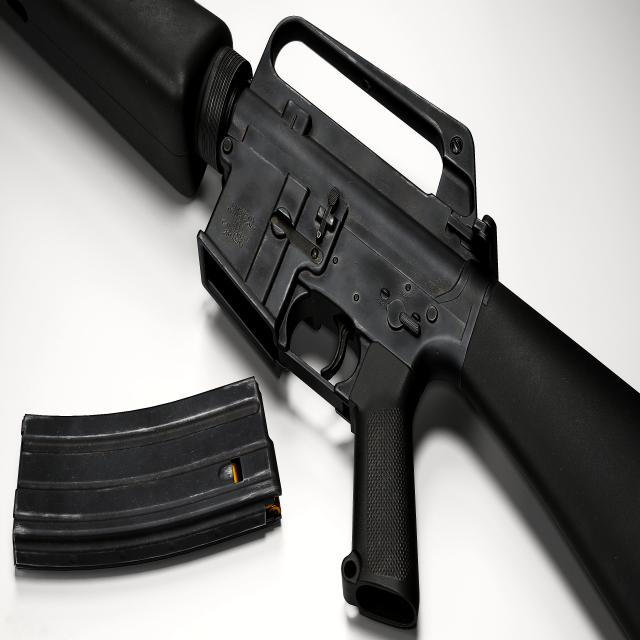m16: (285, 18, 640, 640)
